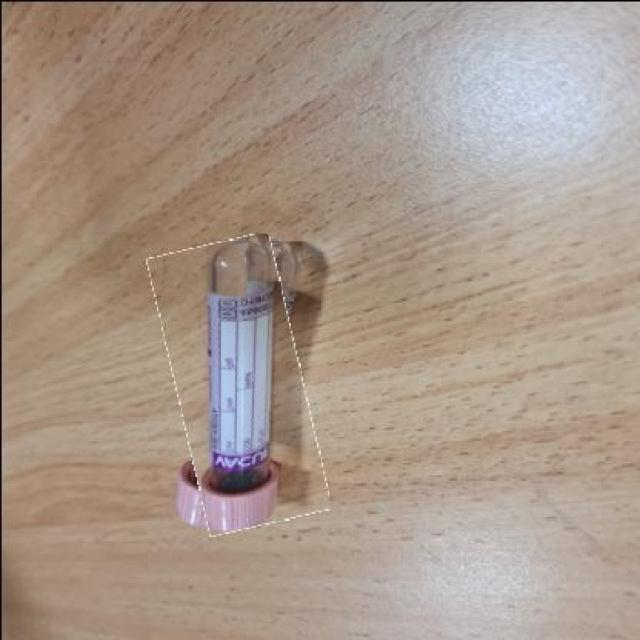Experimental-tube: (160, 235, 314, 530)
